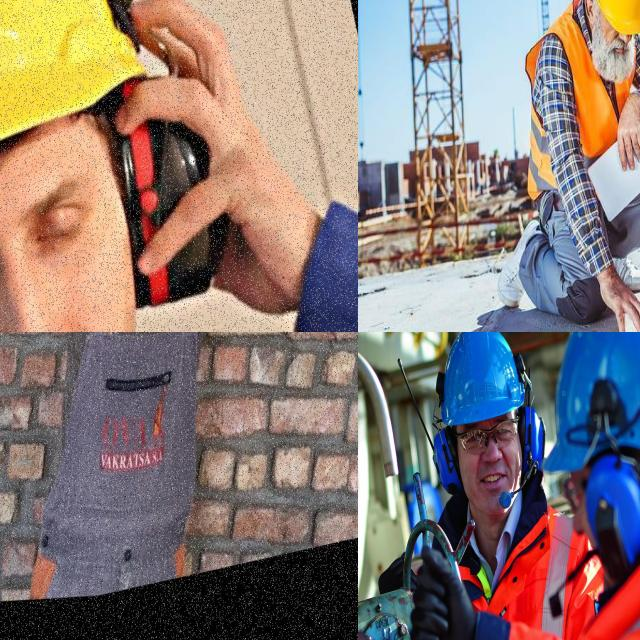face_nomask: (456, 420, 523, 516)
glasses: (455, 421, 521, 458)
hand_glove: (407, 540, 475, 640)
hand_noglove: (587, 259, 640, 332), (615, 88, 640, 170)
head_helmet: (0, 0, 159, 209), (545, 332, 640, 471), (438, 332, 527, 423), (580, 0, 640, 36)
person: (0, 0, 301, 332), (428, 332, 571, 638), (519, 0, 640, 331), (547, 361, 640, 640)
vest: (419, 544, 640, 640), (520, 23, 637, 197), (427, 506, 575, 640)
